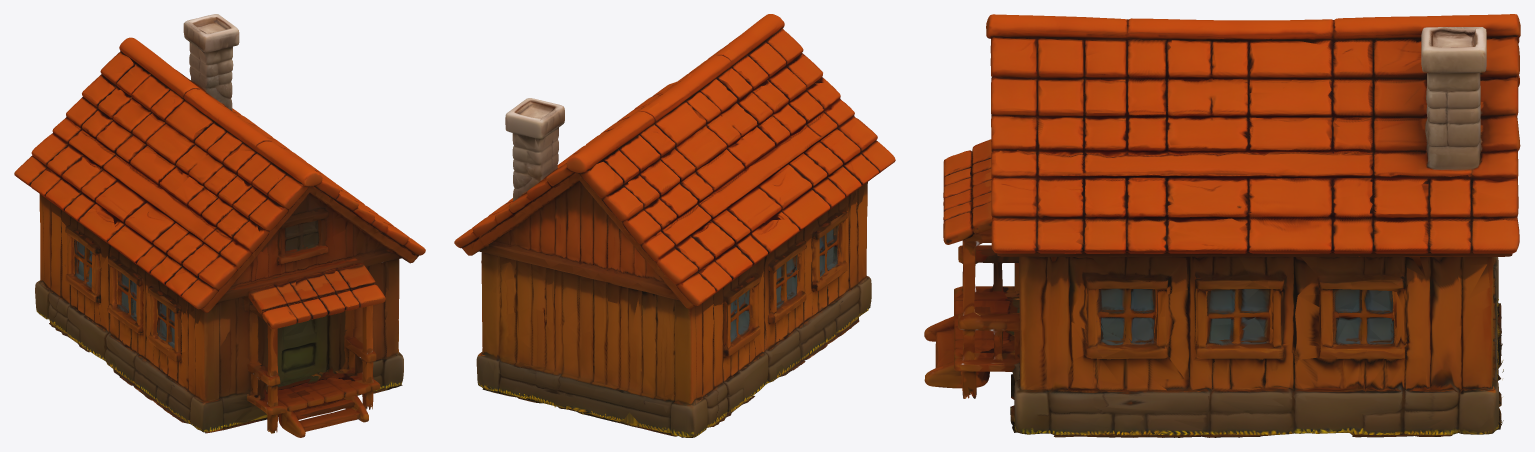
Rendered from farm_house_basic_shaded.glb.
3 renders of one model, left to right at view 1: azimuth 30°, elevation 25°; view 2: azimuth 150°, elevation 25°; view 3: azimuth 270°, elevation 25°, orthographic. The views are drawn at different scales.
Parts seen in each view (by area): view 1: model; view 2: model; view 3: model.
Part boxes in pixels (bbox=[...]): model: bbox=[14, 14, 425, 437]; model: bbox=[454, 14, 895, 437]; model: bbox=[924, 14, 1520, 437].
Bounding box in the file's own units: 1.14 × 1.22 × 1.78.
1 material, 1 textured.
